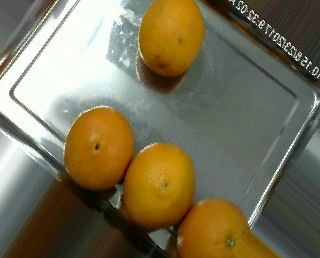Orange: (122, 141, 194, 227), (62, 104, 133, 188), (138, 1, 206, 76)
